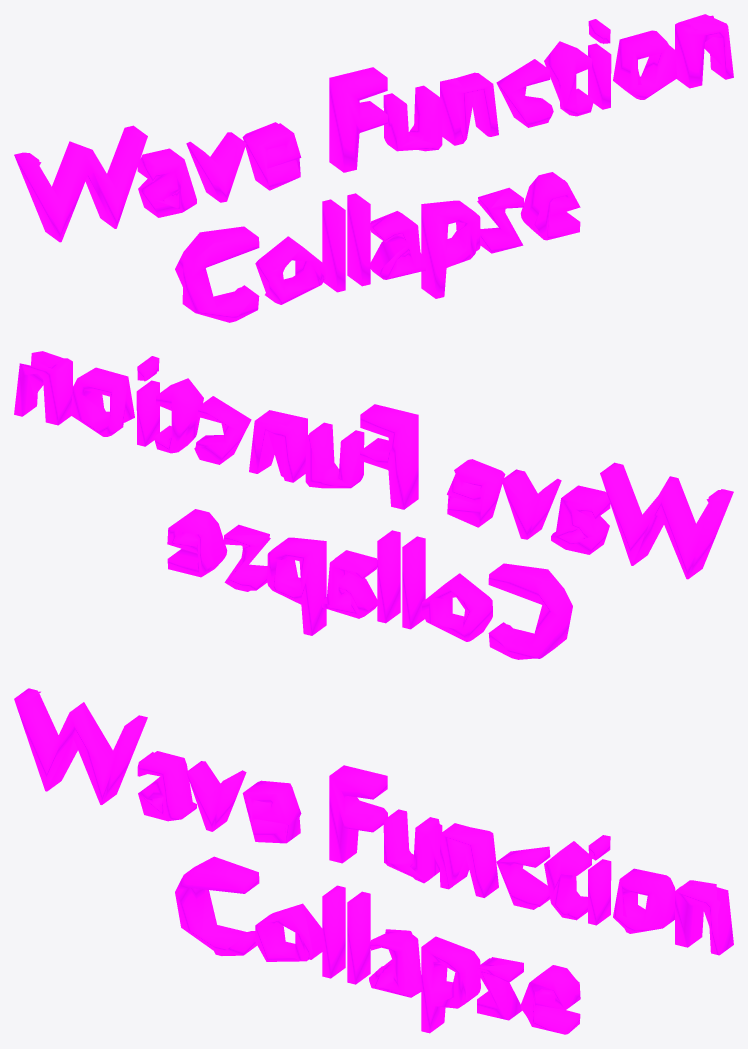
Rendered from waveFunctionCollapse3dText.glb.
The picture shows the model from 3 angles, top to bottom: view 1: azimuth 30°, elevation 25°; view 2: azimuth 150°, elevation 25°; view 3: azimuth 330°, elevation 25°; orthographic projection.
Parts seen in each view (by area): view 1: Text; view 2: Text; view 3: Text.
Part boxes in pixels (<box>): Text: <box>14,14,733,322</box>; Text: <box>14,351,733,659</box>; Text: <box>14,688,733,1034</box>.
Size of the model in its own units: 6.11 by 1.93 by 0.24.
